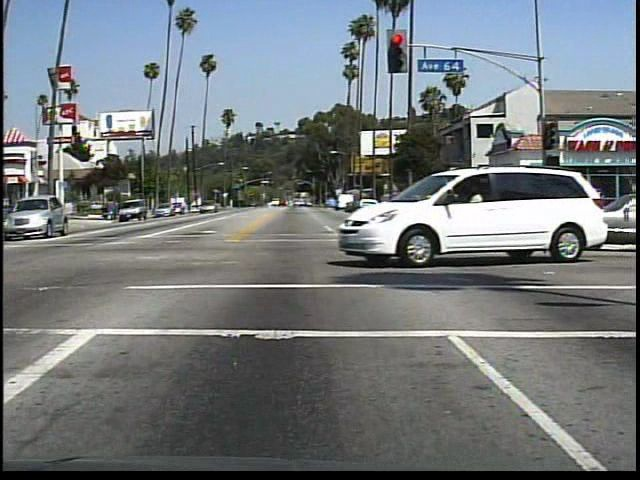person: (541, 187, 566, 237)
